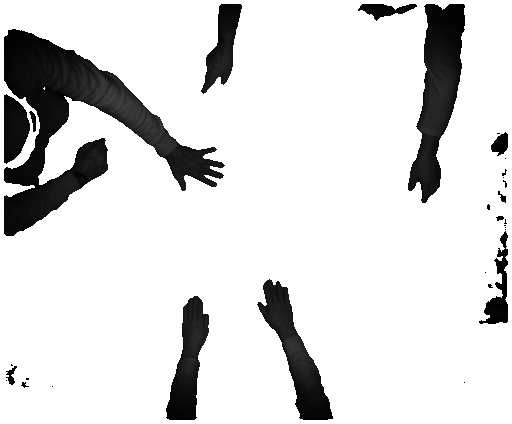fist: (74, 139, 111, 183)
hand: (256, 272, 303, 334), (169, 146, 231, 191), (176, 296, 215, 351), (408, 157, 447, 207), (200, 49, 239, 95)
